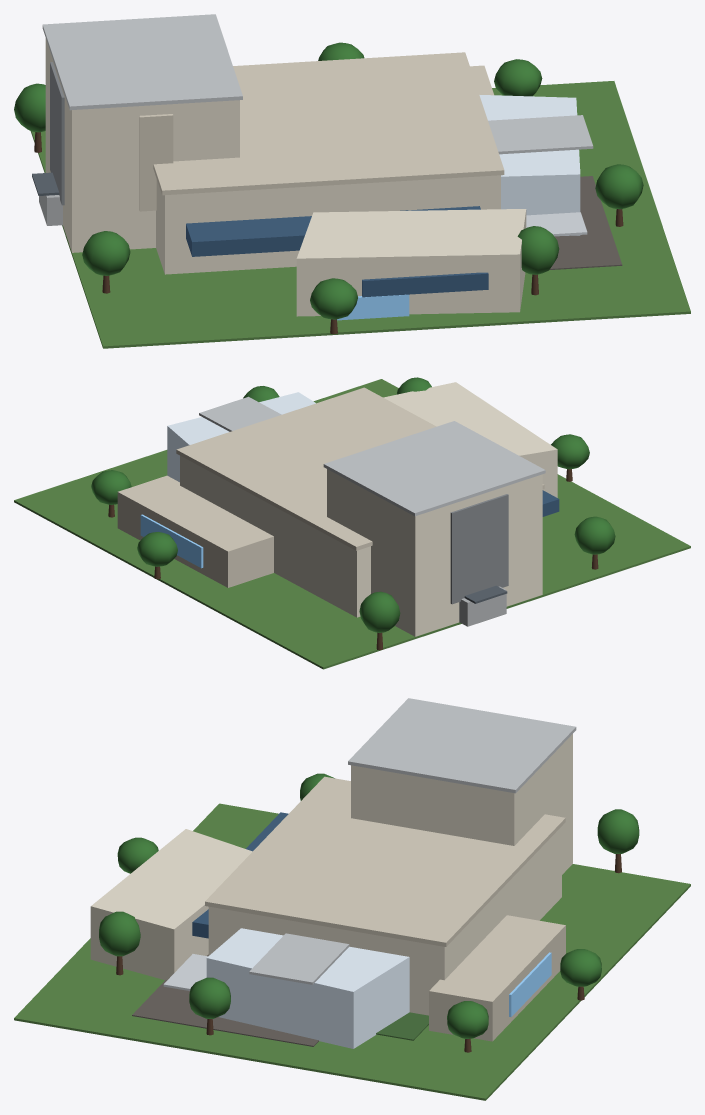
Rendered from gangdong-arts-center.glb.
3 renders of one model, top to bottom at view 1: azimuth 30°, elevation 25°; view 2: azimuth 150°, elevation 25°; view 3: azimuth 270°, elevation 25°, orthographic. The views are drawn at different scales.
Bounding box in the file's own units: 102 × 22.35 × 98.85.
